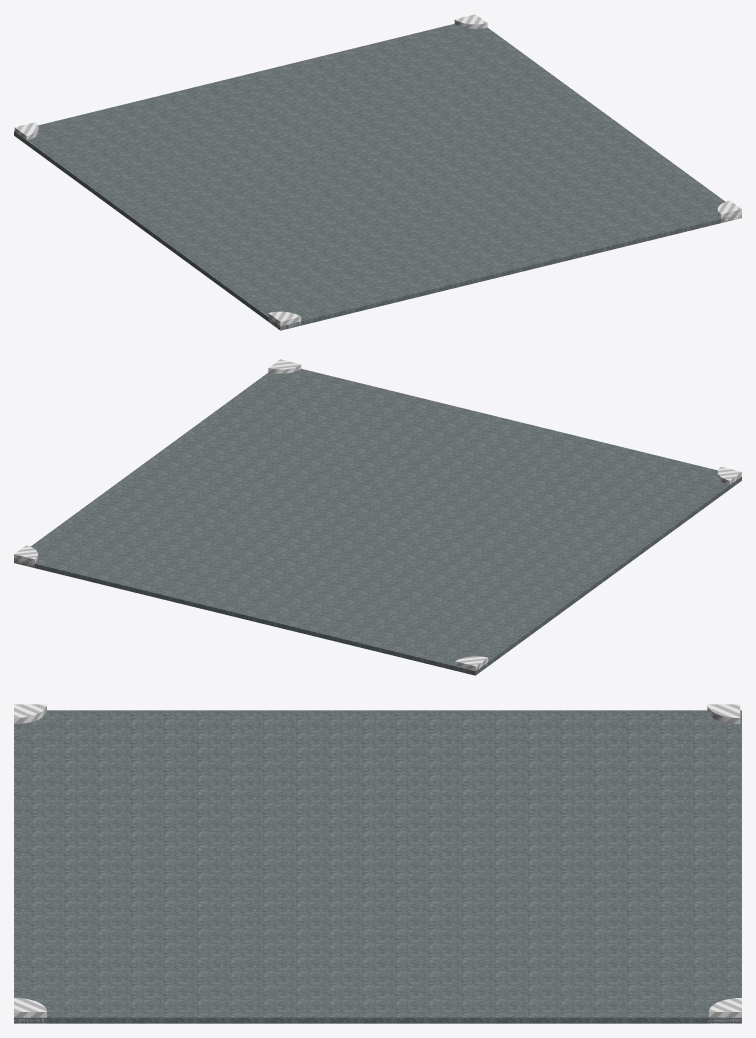
File: track tile crossing.fbx
3 views of the same model, one above another, from view 1: azimuth 30°, elevation 25°; view 2: azimuth 150°, elevation 25°; view 3: azimuth 270°, elevation 25° (orthographic). The views are drawn at different scales.
Parts seen in each view (by area): view 1: block; view 2: block; view 3: block, arc_quarter (×4).
Boxes of the visible parts, x1,y1,x2,y2 form: block: [14, 24, 736, 330]; block: [14, 369, 741, 675]; block: [14, 710, 741, 1023]; arc_quarter (×4): [14, 704, 741, 1023].
Size of the model in its own units: 220 by 4 by 220.
2 materials, 2 textured.
